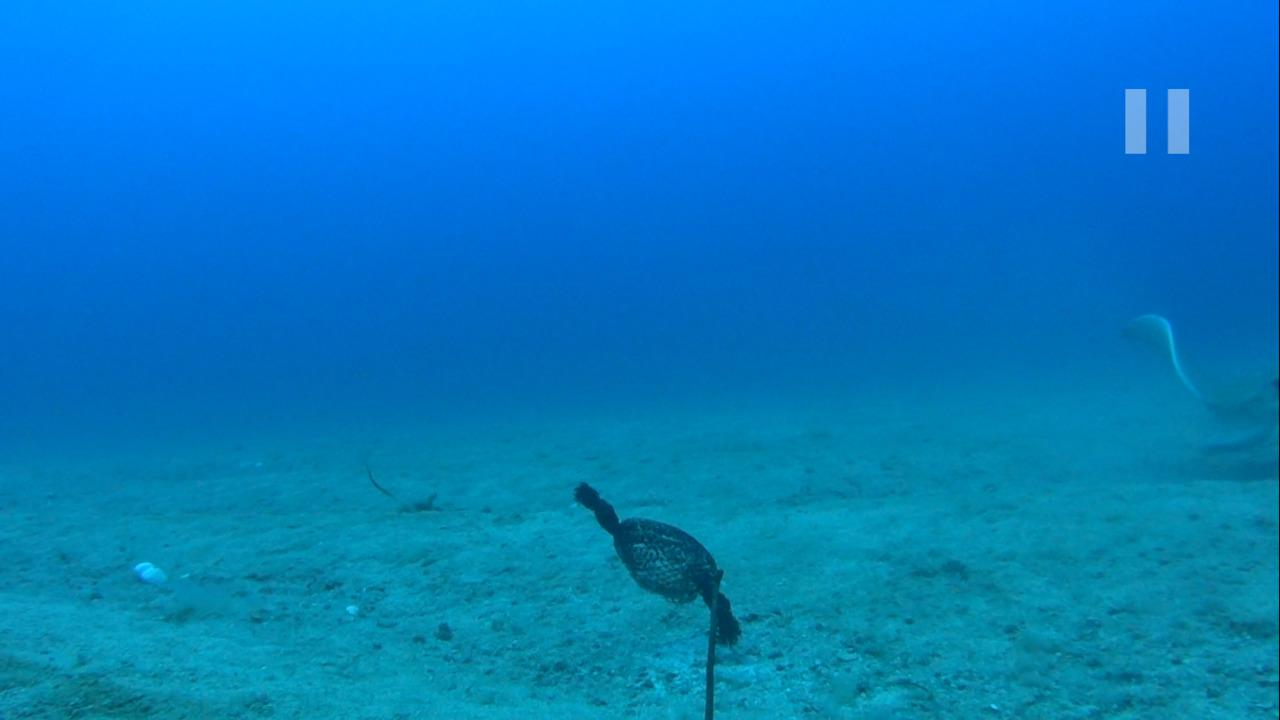myliobatis: (1111, 307, 1279, 455)
